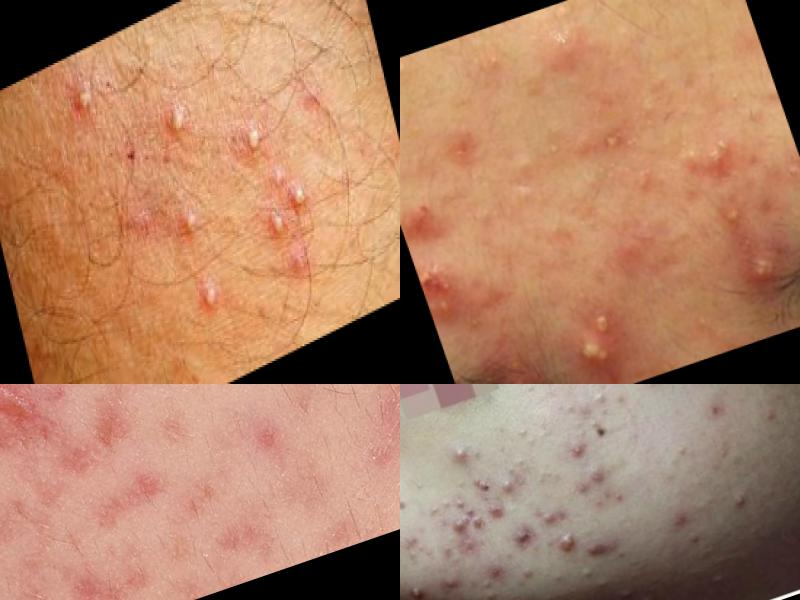folliculitis: (151, 79, 203, 158), (191, 263, 233, 332), (229, 110, 274, 171), (168, 188, 209, 251), (67, 67, 108, 130), (257, 196, 295, 251), (283, 170, 320, 216)
keloid: (1, 385, 54, 468)
papular: (278, 233, 323, 317), (551, 28, 595, 77), (401, 185, 443, 235), (575, 529, 621, 567), (580, 462, 625, 493), (506, 517, 542, 555), (558, 435, 598, 465), (446, 517, 480, 547), (661, 506, 694, 535), (436, 569, 468, 598), (481, 559, 510, 588), (509, 561, 540, 588), (535, 502, 565, 529), (401, 525, 424, 554), (489, 502, 509, 532)
purulent: (573, 296, 629, 340), (711, 192, 756, 238), (438, 437, 479, 474), (551, 527, 587, 559), (494, 370, 540, 385), (401, 579, 431, 600)
sebo-crystan-conglo: (413, 245, 471, 330), (561, 328, 633, 385), (731, 233, 788, 293), (595, 116, 636, 163)
whitehead: (496, 141, 562, 225), (673, 126, 747, 186), (493, 455, 540, 506), (662, 436, 706, 469), (723, 484, 759, 523), (681, 525, 719, 561), (510, 416, 544, 456), (424, 490, 469, 520), (585, 385, 614, 410), (404, 545, 429, 569), (592, 571, 615, 595), (478, 578, 502, 600), (611, 579, 636, 600), (577, 562, 604, 578), (640, 588, 664, 600), (563, 597, 583, 600)
